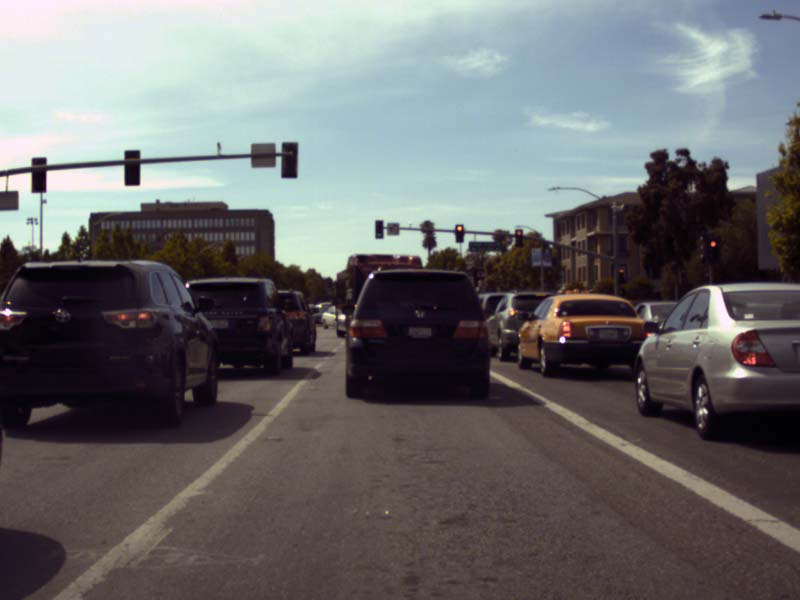Green: (376, 221, 381, 237)
Red: (708, 239, 716, 260), (456, 225, 462, 241), (516, 230, 521, 245), (618, 268, 623, 282)
